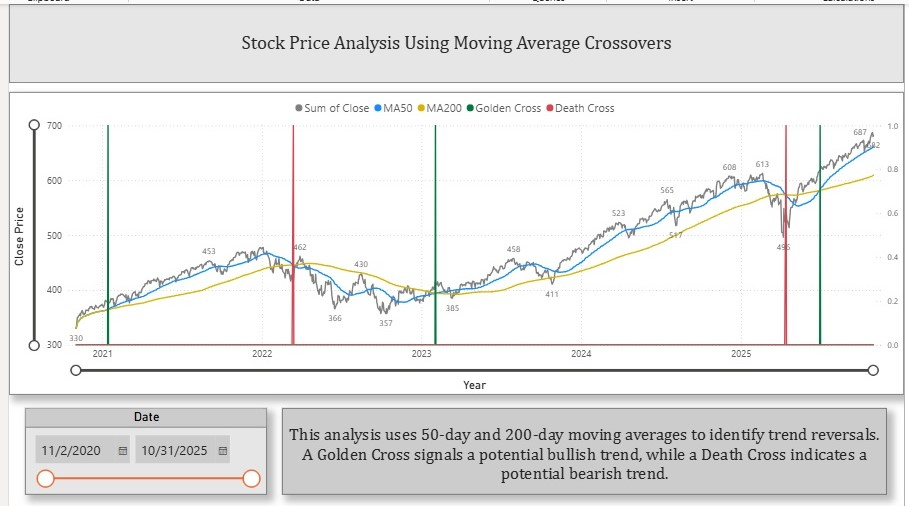

Layout of this report page (visuals, bound fields, positions):
{"tool":"powerbi","page":{"name":"Page 1","canvas":[1280,720],"ordinal":0},"visuals":[{"type":"shape","box":[0,0,1280,113],"z":0},{"type":"lineChart","fields":{"Category":["SPY_close_price_5Y.Date.Variation.Date Hierarchy.Year","SPY_close_price_5Y.Date.Variation.Date Hierarchy.Quarter","SPY_close_price_5Y.Date.Variation.Date Hierarchy.Month","SPY_close_price_5Y.Date.Variation.Date Hierarchy.Day"],"Y":["Sum(SPY_close_price_5Y.Close)","select","select1"],"Y2":["select2","select3"]},"box":[0,125.9,1280,433.3],"z":1000},{"type":"slicer","title":"Date","fields":{"Values":["SPY_close_price_5Y.Date"]},"box":[22.9,578.2,346.1,124.4],"z":2000},{"type":"textbox","box":[236,35.8,808,42.9],"z":3000},{"type":"textbox","box":[390.4,578.2,865.3,124.4],"z":4000}]}

Visuals, with their boxes on the page's 1280x720 design canvas (x1, y1, x2, y2). These are canvas units, not pixel positions in the 909x506 screenshot, which may show the page scaled, cropped or inside an application window:
shape: {"x1": 0, "y1": 0, "x2": 1280, "y2": 113}
lineChart - SPY_close_price_5Y.Date.Variation.Date Hierarchy.Year x SPY_close_price_5Y.Date.Variation.Date Hierarchy.Quarter: {"x1": 0, "y1": 126, "x2": 1280, "y2": 559}
"Date" slicer: {"x1": 23, "y1": 578, "x2": 369, "y2": 703}
textbox: {"x1": 236, "y1": 36, "x2": 1044, "y2": 79}
textbox: {"x1": 390, "y1": 578, "x2": 1256, "y2": 703}
